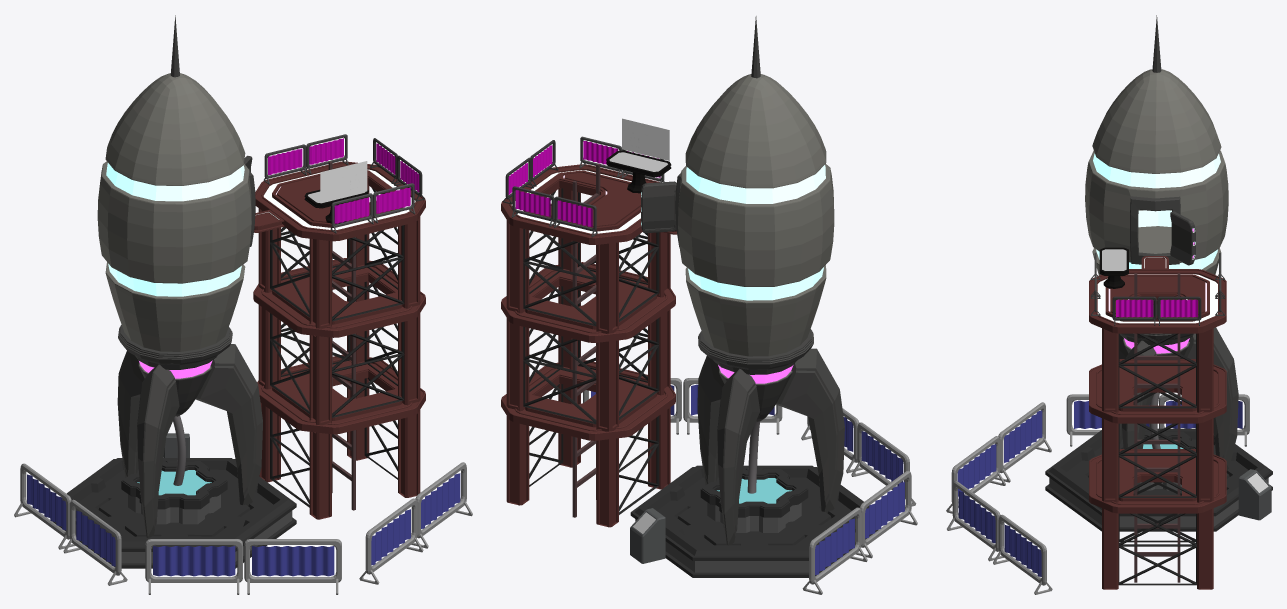
File: roket.fbx
3 views of the same model, side by side, from view 1: azimuth 30°, elevation 25°; view 2: azimuth 150°, elevation 25°; view 3: azimuth 270°, elevation 25° (orthographic). The views are drawn at different scales.
Visible parts, largest first — view 1: tile03_high.001; view 2: tile03_high.001; view 3: tile03_high.001.
Part boxes in pixels (box(x1,y1,x2,y2)): tile03_high.001: box(14, 15, 472, 594); tile03_high.001: box(501, 16, 917, 594); tile03_high.001: box(946, 15, 1272, 594).
Bounding box in the file's own units: 1857 × 2712 × 1632.
